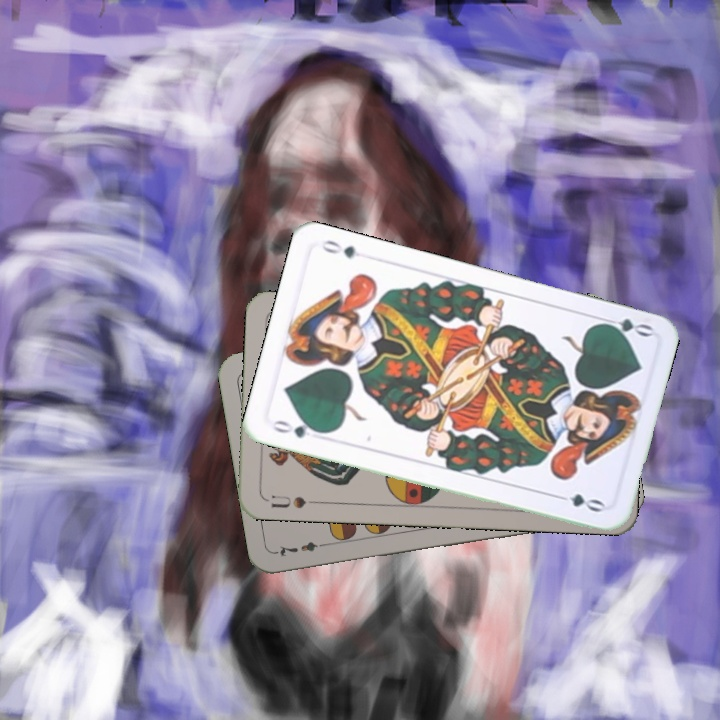E7: (272, 538, 331, 558)
GO: (594, 313, 655, 341), (268, 416, 327, 441)
SU: (267, 490, 321, 511)
